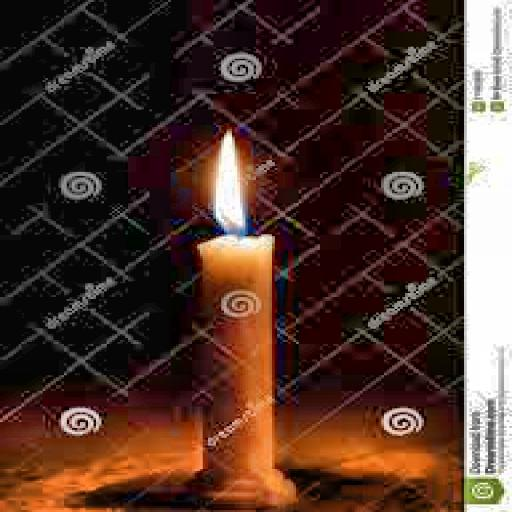fire: (189, 127, 264, 242)
